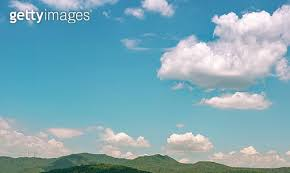sky: (3, 24, 290, 164)
